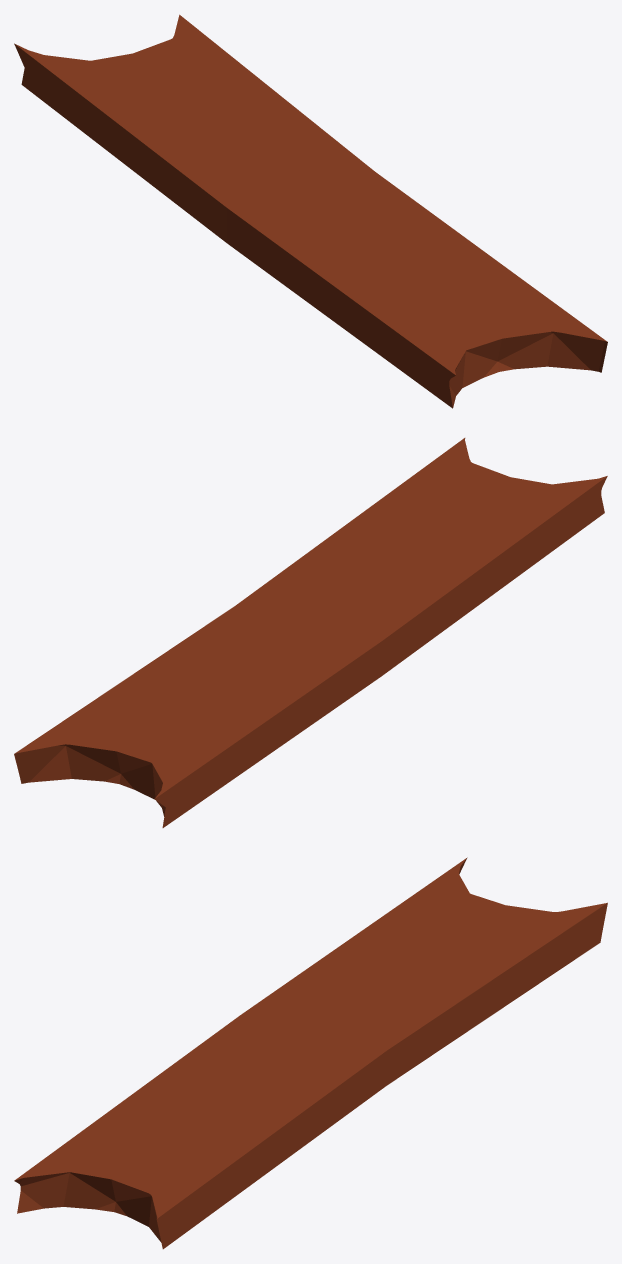
Rendered from BrokenPlanche7.fbx.
The picture shows the model from 3 angles, top to bottom: view 1: azimuth 30°, elevation 25°; view 2: azimuth 150°, elevation 25°; view 3: azimuth 330°, elevation 25°; orthographic projection.
Parts seen in each view (by area): view 1: BrokenPlanche.007; view 2: BrokenPlanche.007; view 3: BrokenPlanche.007.
Boxes of the visible parts, left/top/right/bottom form: BrokenPlanche.007: left=14, top=14, right=607, bottom=408; BrokenPlanche.007: left=14, top=438, right=607, bottom=827; BrokenPlanche.007: left=14, top=857, right=607, bottom=1249.
Size of the model in its own units: 185 by 38.61 by 896.
